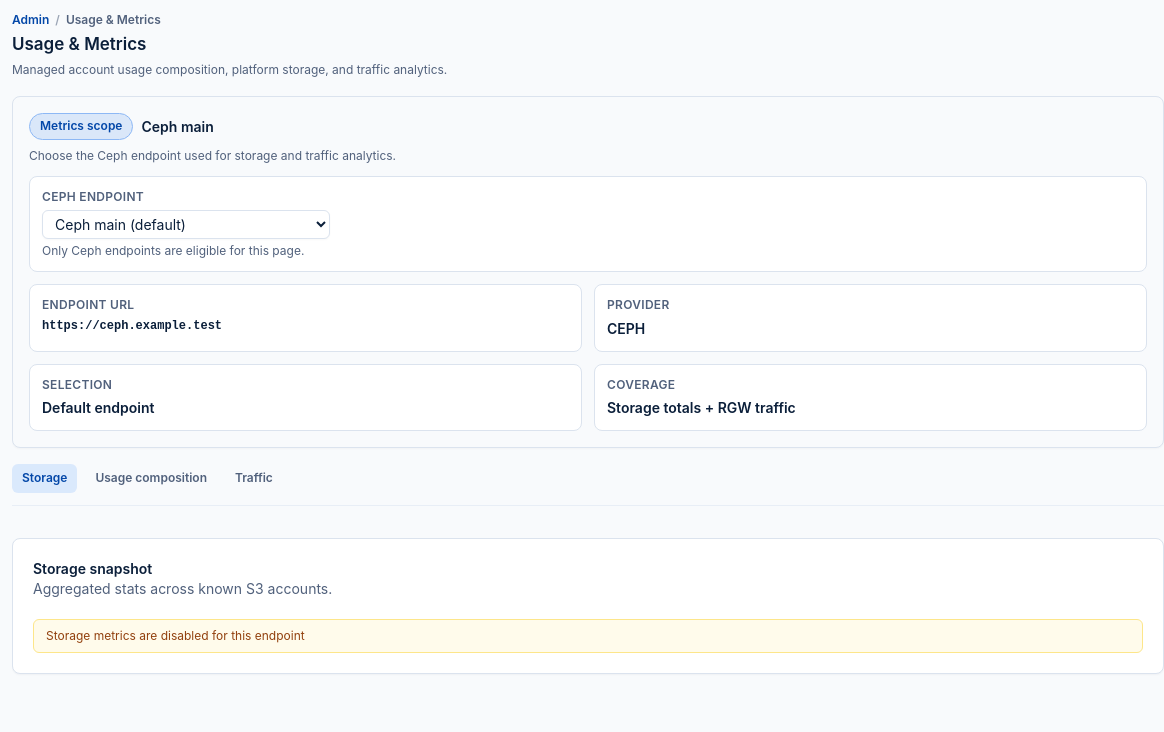
Test case: AdminMetricsPage › keeps disabled storage metrics inside the storage snapshot card
The image size is (1164, 732).
Check: the text "Storage metrics are disabled for this endpoint" is shown, box x1=46 y1=628 x2=305 y2=643
Check: the heading "Storage snapshot" is shown, box x1=33 y1=560 x2=152 y2=576
Click the tab "Traffic": (254, 478) x1=225 y1=464 x2=283 y2=492
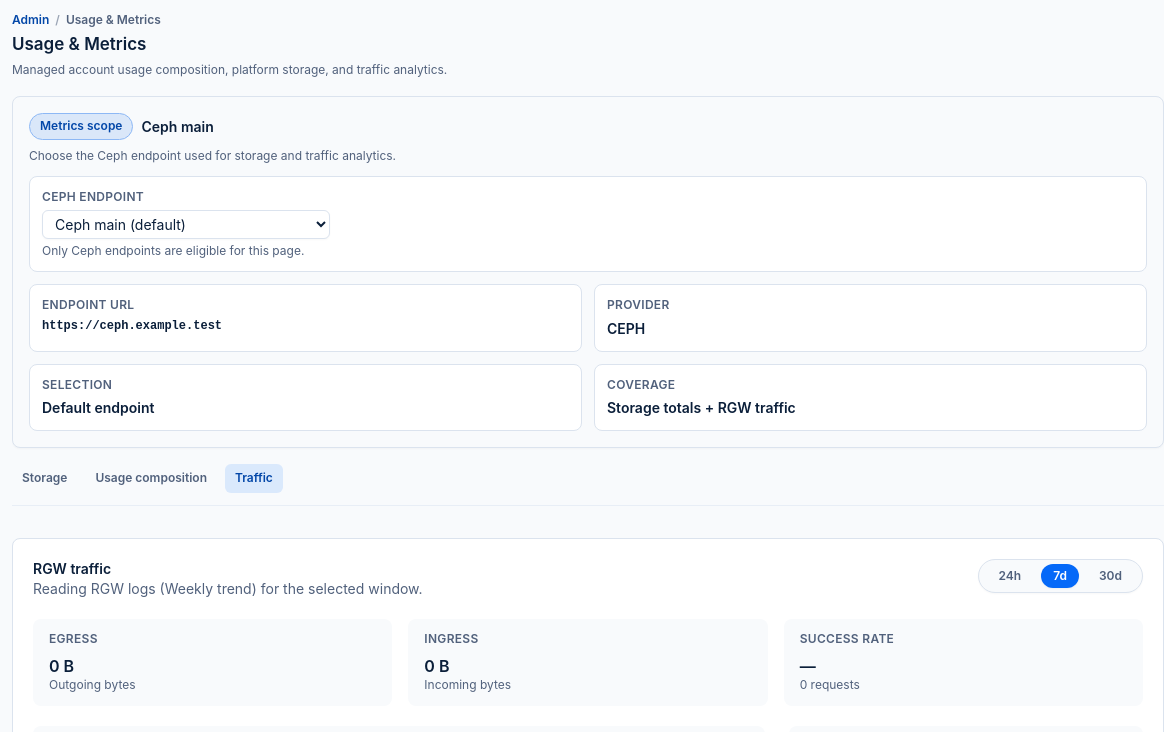
Check: the heading "RGW traffic" is shown, box x1=33 y1=560 x2=111 y2=576
